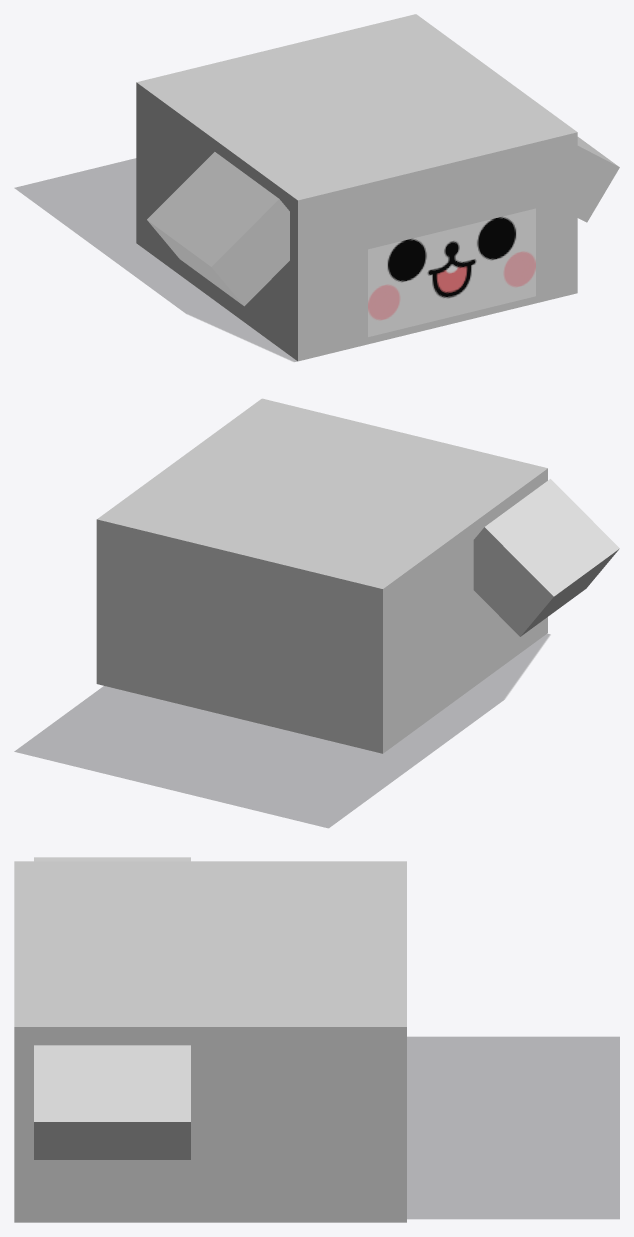
Rendered from block_12.glb.
3 renders of one model, top to bottom at view 1: azimuth 30°, elevation 25°; view 2: azimuth 150°, elevation 25°; view 3: azimuth 270°, elevation 25°, orthographic. The views are drawn at different scales.
Visible parts, largest first — view 1: hitObj, block; view 2: hitObj, block; view 3: hitObj, block.
Boxes of the visible parts, bbox=[...] form: hitObj: bbox=[136, 14, 619, 361]; block: bbox=[15, 158, 296, 361]; hitObj: bbox=[96, 398, 619, 753]; block: bbox=[14, 634, 549, 827]; hitObj: bbox=[14, 857, 406, 1222]; block: bbox=[407, 1037, 619, 1218].
Bounding box in the file's own units: 14.6 × 5.51 × 15.44.
3 materials, 2 textured.
